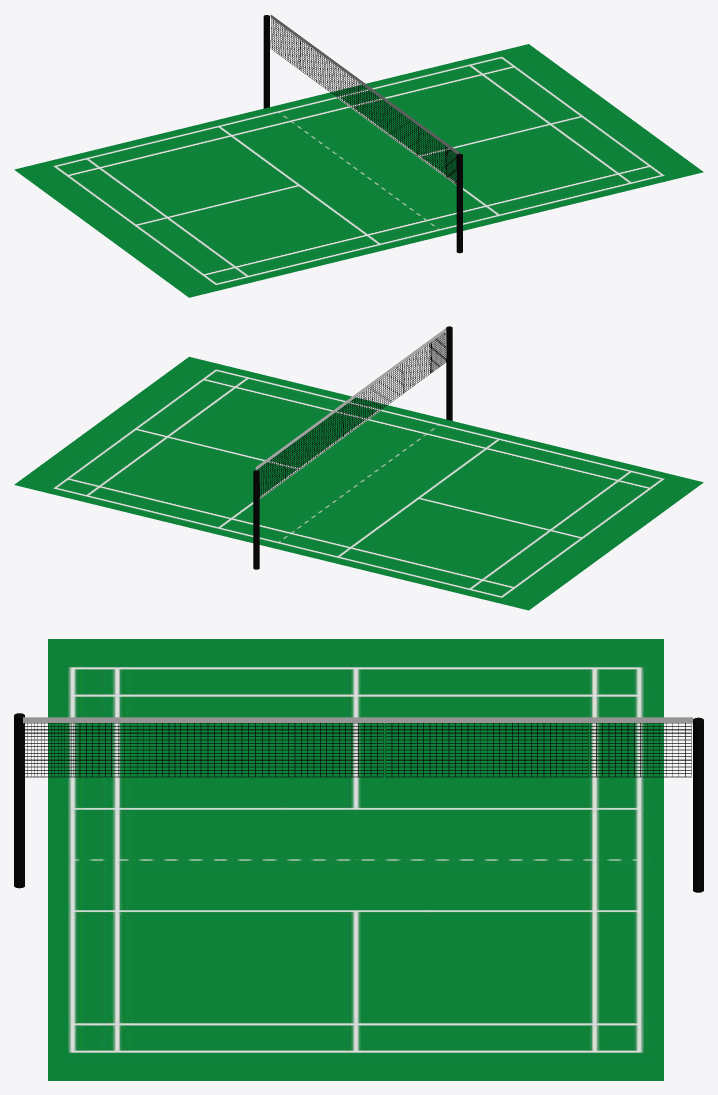
Rendered from playArea_Field.fbx.
The picture shows the model from 3 angles, top to bottom: view 1: azimuth 30°, elevation 25°; view 2: azimuth 150°, elevation 25°; view 3: azimuth 270°, elevation 25°; orthographic projection. The views are drawn at different scales.
Parts seen in each view (by area): view 1: Plane, Plane.009, Plane.007, Plane.003, Plane.006, Plane.004, Plane.001, Plane.005, Cylinder, Cylinder.001; view 2: Plane, Plane.007, Plane.009, Plane.005, Plane.006, Plane.001, Plane.003, Cylinder.001, Plane.004, Cylinder, Plane.008; view 3: Plane, Plane.009, Plane.007, Plane.001, Plane.003, Plane.005, Plane.006, Plane.004, Cylinder.001, Cylinder, Plane.008.
Boxes of the visible parts, x1=… form: Plane: x1=14, y1=44, x2=703, y2=297; Plane.009: x1=270, y1=14, x2=460, y2=153; Plane.007: x1=387, y1=103, x2=418, y2=155; Plane.003: x1=328, y1=61, x2=358, y2=112; Plane.006: x1=417, y1=126, x2=447, y2=176; Plane.004: x1=270, y1=18, x2=300, y2=69; Plane.001: x1=300, y1=40, x2=329, y2=90; Plane.005: x1=358, y1=82, x2=387, y2=133; Cylinder: x1=456, y1=153, x2=462, y2=253; Cylinder.001: x1=263, y1=15, x2=269, y2=108; Plane: x1=14, y1=356, x2=703, y2=610; Plane.007: x1=371, y1=363, x2=403, y2=415; Plane.009: x1=255, y1=328, x2=446, y2=469; Plane.005: x1=343, y1=385, x2=372, y2=436; Plane.006: x1=402, y1=342, x2=432, y2=393; Plane.001: x1=284, y1=428, x2=314, y2=479; Plane.003: x1=313, y1=407, x2=343, y2=457; Cylinder.001: x1=253, y1=470, x2=259, y2=569; Plane.004: x1=257, y1=450, x2=285, y2=498; Cylinder: x1=446, y1=326, x2=452, y2=420; Plane.008: x1=429, y1=332, x2=446, y2=372; Plane: x1=48, y1=639, x2=663, y2=1080; Plane.009: x1=23, y1=717, x2=692, y2=723; Plane.007: x1=174, y1=723, x2=282, y2=777; Plane.001: x1=487, y1=723, x2=588, y2=777; Plane.003: x1=385, y1=723, x2=486, y2=777; Plane.005: x1=282, y1=723, x2=383, y2=777; Plane.006: x1=73, y1=723, x2=175, y2=777; Plane.004: x1=590, y1=723, x2=691, y2=777; Cylinder.001: x1=693, y1=717, x2=703, y2=892; Cylinder: x1=14, y1=713, x2=24, y2=888; Plane.008: x1=24, y1=723, x2=77, y2=777.
Size of the model in its own units: 1145 by 212 by 755.
Materials: 12 (1 with a texture image).
